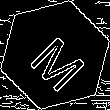M_NE: (21, 21, 89, 89)
